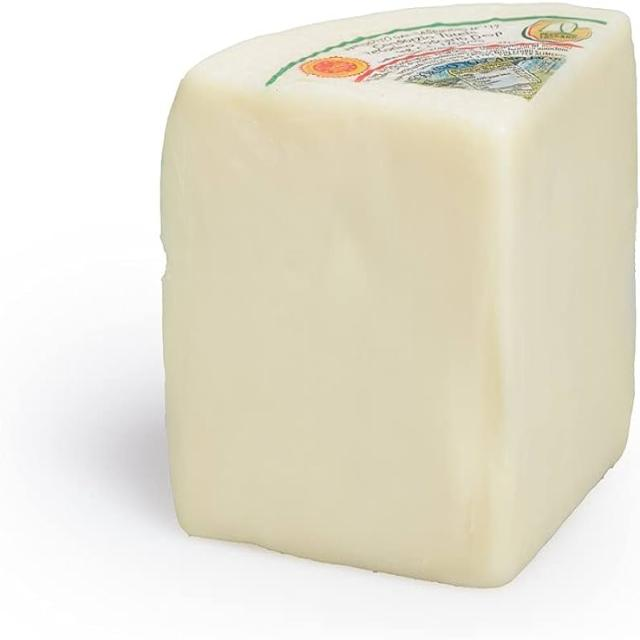Cheese: (155, 13, 640, 589)
